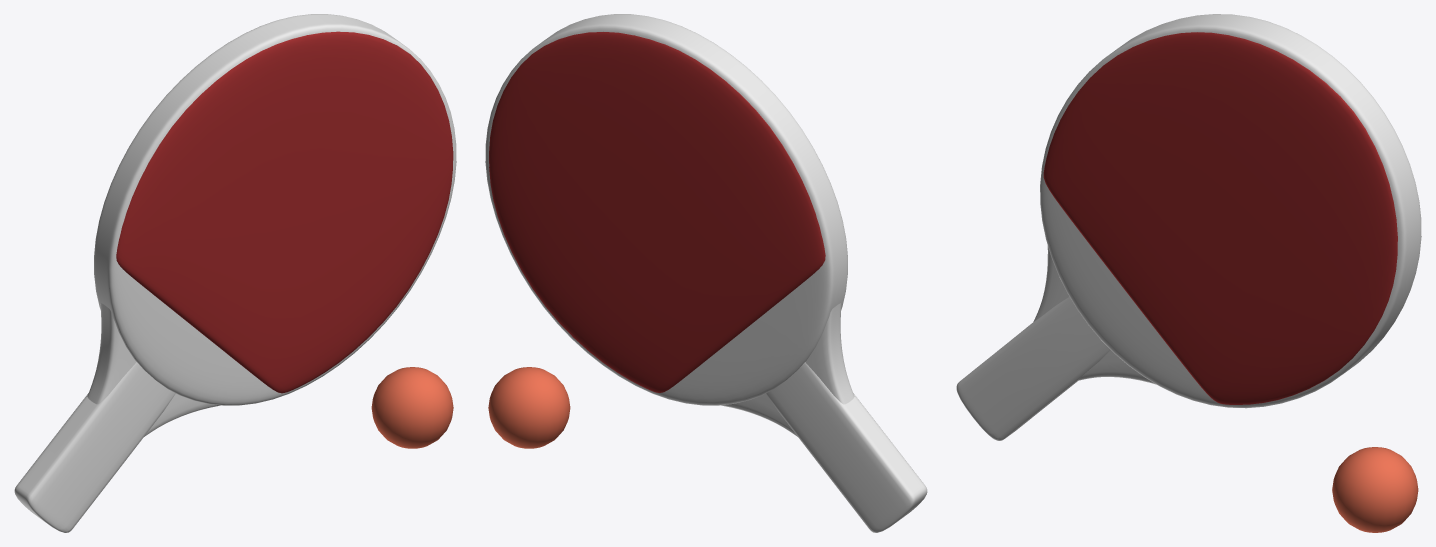
Rendered from racket.glb.
3 renders of one model, left to right at view 1: azimuth 30°, elevation 25°; view 2: azimuth 150°, elevation 25°; view 3: azimuth 330°, elevation 25°, orthographic. The views are drawn at different scales.
Parts seen in each view (by area): view 1: Cylinder.133_2, Cylinder.135_4, Cube.288_0, Sphere.017_5, Cylinder.134_3; view 2: Cylinder.132_1, Cylinder.135_4, Cube.288_0, Sphere.017_5, Cylinder.134_3; view 3: Cylinder.133_2, Cylinder.135_4, Cube.288_0, Sphere.017_5, Cylinder.134_3.
Part boxes in pixels (x1,y1,x2,y2): Cylinder.133_2: [116, 31, 453, 393]; Cylinder.135_4: [94, 14, 456, 405]; Cube.288_0: [14, 362, 175, 532]; Sphere.017_5: [371, 367, 453, 448]; Cylinder.134_3: [87, 303, 220, 436]; Cylinder.132_1: [489, 32, 825, 392]; Cylinder.135_4: [485, 14, 847, 405]; Cube.288_0: [766, 362, 927, 532]; Sphere.017_5: [488, 367, 570, 448]; Cylinder.134_3: [721, 303, 854, 436]; Cylinder.133_2: [1043, 32, 1397, 404]; Cylinder.135_4: [1040, 14, 1421, 408]; Cube.288_0: [956, 297, 1110, 440]; Sphere.017_5: [1332, 447, 1418, 532]; Cylinder.134_3: [1033, 245, 1156, 384].
Bounding box in the file's own units: 0.4438 × 0.4466 × 0.0737.
